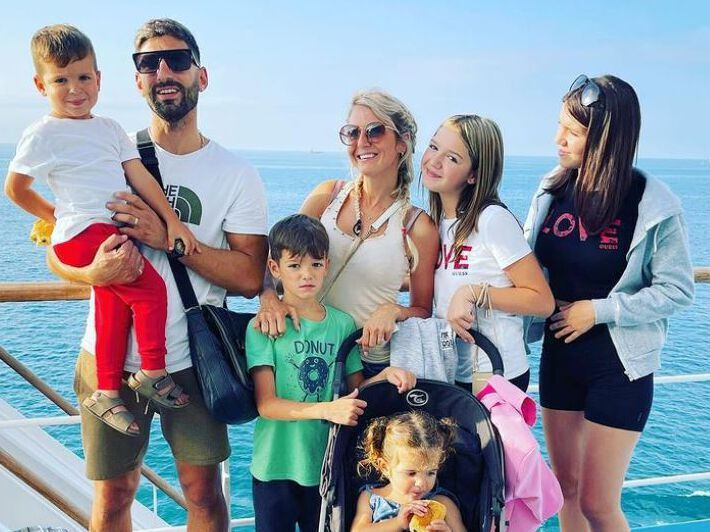without_mask: (136, 36, 204, 121), (37, 46, 107, 114), (334, 106, 396, 175), (415, 119, 466, 198), (547, 103, 590, 175), (389, 445, 436, 504), (280, 242, 324, 300)
